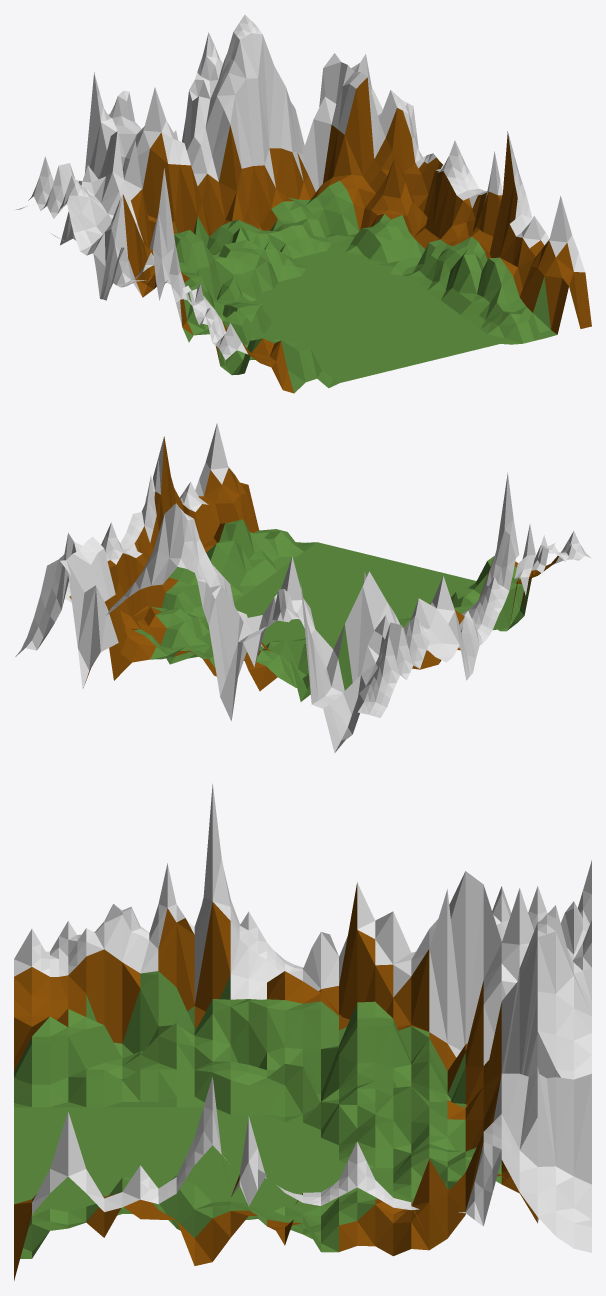
The model's file is valley.gltf.
The picture shows the model from 3 angles, top to bottom: view 1: azimuth 30°, elevation 25°; view 2: azimuth 150°, elevation 25°; view 3: azimuth 270°, elevation 25°; orthographic projection. The views are drawn at different scales.
Visible parts, largest first — view 1: Terrain_Plane.001; view 2: Terrain_Plane.001; view 3: Terrain_Plane.001.
Part boxes in pixels (box(x1,y1,x2,y2)): Terrain_Plane.001: box(14, 14, 591, 393); Terrain_Plane.001: box(15, 423, 591, 752); Terrain_Plane.001: box(14, 783, 591, 1280).
Size of the model in its own units: 300 by 159 by 300.
